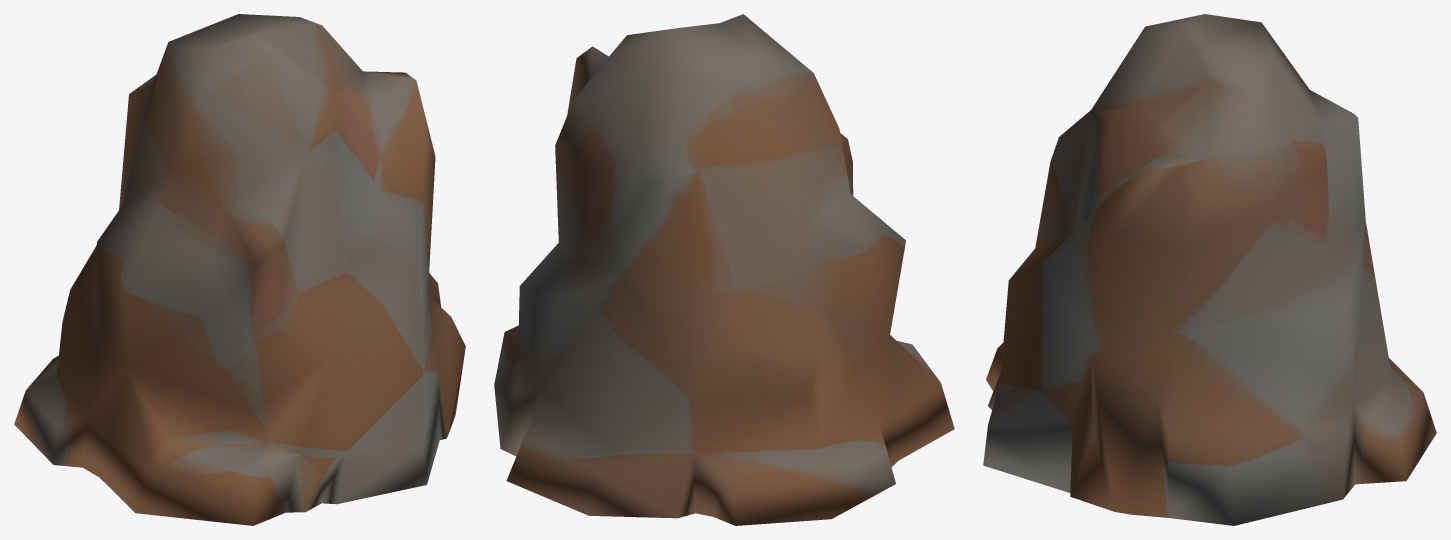
File: selected.fbx
3 renders of one model, left to right at view 1: azimuth 30°, elevation 25°; view 2: azimuth 150°, elevation 25°; view 3: azimuth 270°, elevation 25°, orthographic. The views are drawn at different scales.
Visible parts, largest first — view 1: tripo_node_9399d70d-d522-477b-b9fb-291c21e9b99f; view 2: tripo_node_9399d70d-d522-477b-b9fb-291c21e9b99f; view 3: tripo_node_9399d70d-d522-477b-b9fb-291c21e9b99f.
Part boxes in pixels (x1,y1,x2,y2): tripo_node_9399d70d-d522-477b-b9fb-291c21e9b99f: (14, 14, 465, 525); tripo_node_9399d70d-d522-477b-b9fb-291c21e9b99f: (494, 14, 954, 525); tripo_node_9399d70d-d522-477b-b9fb-291c21e9b99f: (983, 14, 1436, 525).
Bounding box in the file's own units: 92.77 × 99.8 × 93.55.
Materials: 1 (1 with a texture image).
